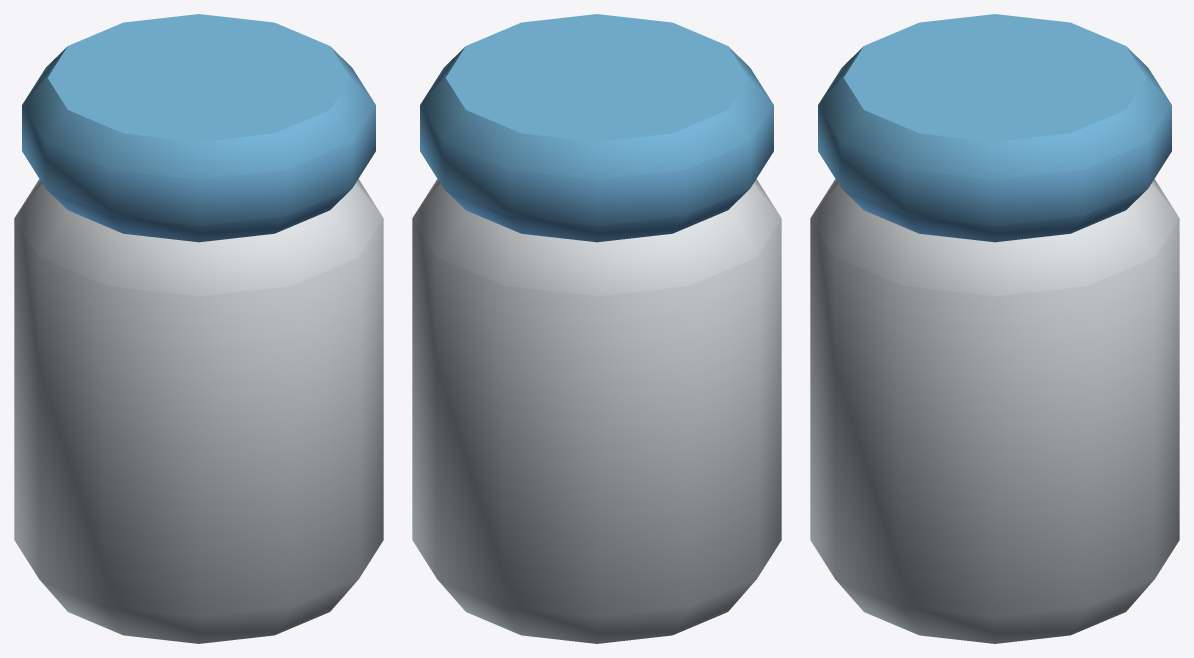
Rendered from prop_jar_a.glb.
3 views of the same model, side by side, from view 1: azimuth 30°, elevation 25°; view 2: azimuth 150°, elevation 25°; view 3: azimuth 270°, elevation 25° (orthographic).
Visible parts, largest first — view 1: jar_A_large; view 2: jar_A_large; view 3: jar_A_large.
Boxes of the visible parts, x1,y1,x2,y2 form: jar_A_large: (14, 14, 383, 643); jar_A_large: (412, 14, 781, 643); jar_A_large: (810, 14, 1179, 643).
Size of the model in its own units: 0.5 by 0.75 by 0.5.
1 material, 1 textured.
